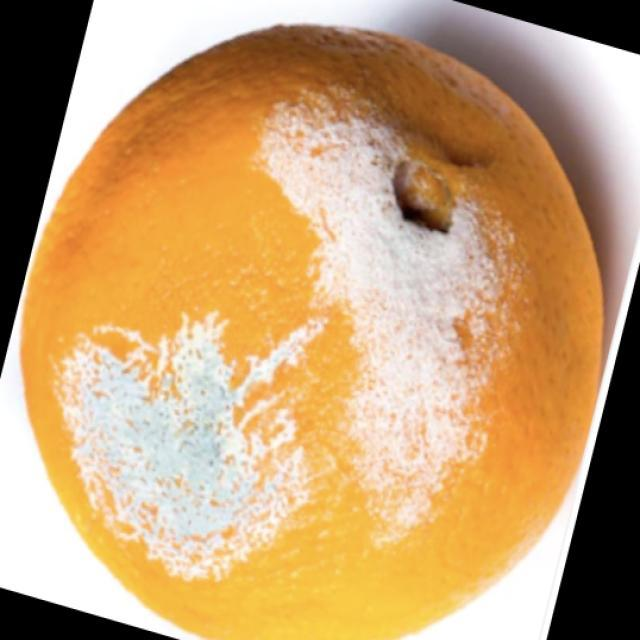sedikit-busuk: (21, 26, 602, 639), (260, 94, 513, 539), (60, 315, 314, 578), (233, 320, 320, 489)
